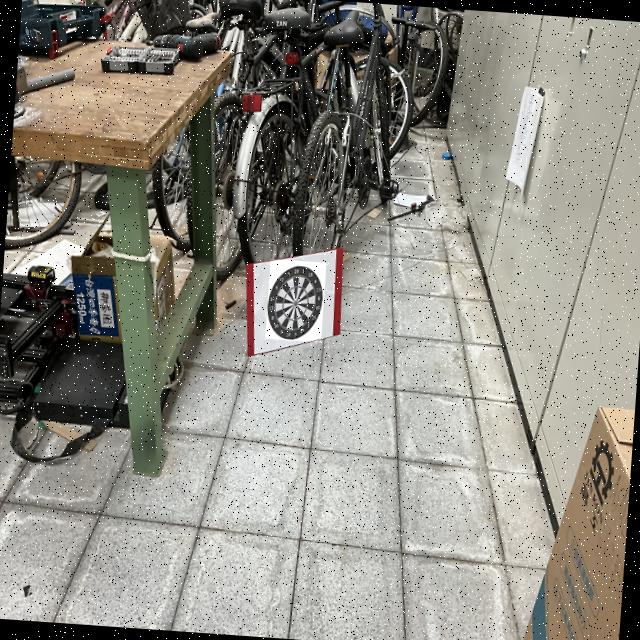archery-targets: (264, 258, 326, 342)
